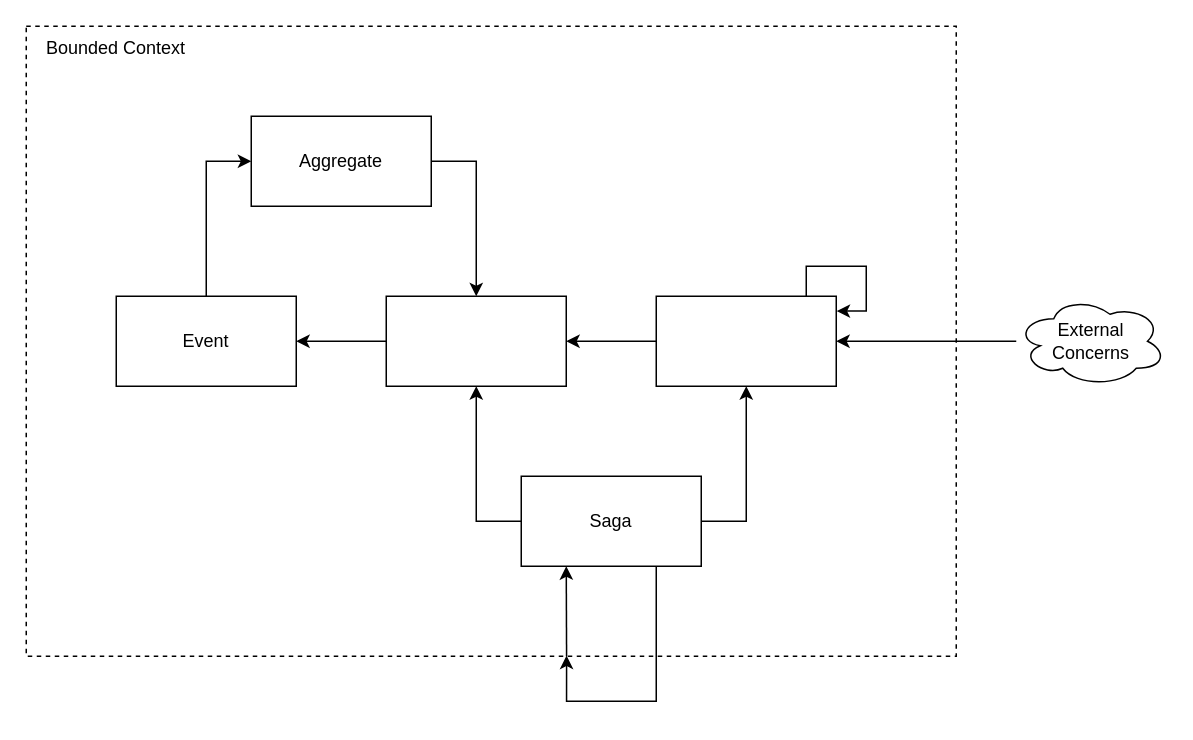
Image size: 1193x740. Some labels were removed from this diagram. Each missing label, with the box of its shape:
Command: (385, 295, 566, 386)
Service: (655, 295, 836, 386)
